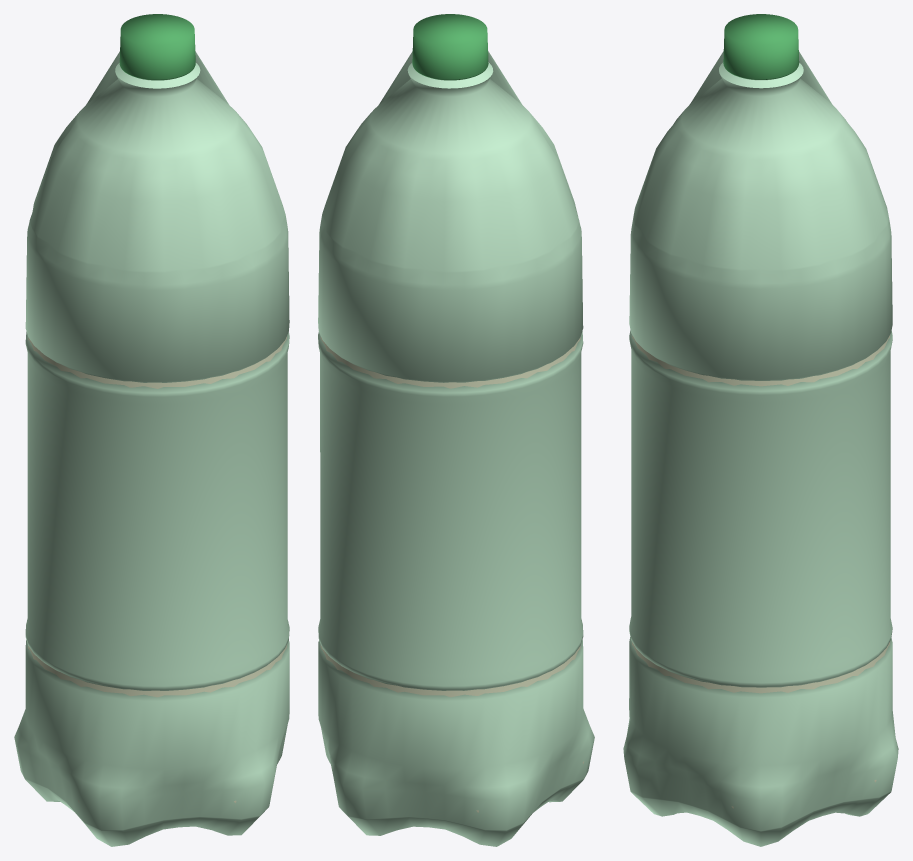
The model's file is bottle_pet2l_lod1.glb.
3 views of the same model, side by side, from view 1: azimuth 30°, elevation 25°; view 2: azimuth 150°, elevation 25°; view 3: azimuth 270°, elevation 25° (orthographic).
Visible parts, largest first — view 1: Glass, Cap, Liquid; view 2: Glass, Cap, Liquid; view 3: Glass, Cap, Liquid.
Part boxes in pixels (x1,y1,x2,y2): Glass: (14,51,289,846); Cap: (119,14,195,80); Liquid: (28,336,286,803); Glass: (318,51,594,846); Cap: (412,14,488,80); Liquid: (320,336,584,812); Glass: (623,51,898,846); Cap: (723,14,799,79); Liquid: (632,335,889,808).
Bounding box in the file's own units: 0.1092 × 0.3373 × 0.109.
